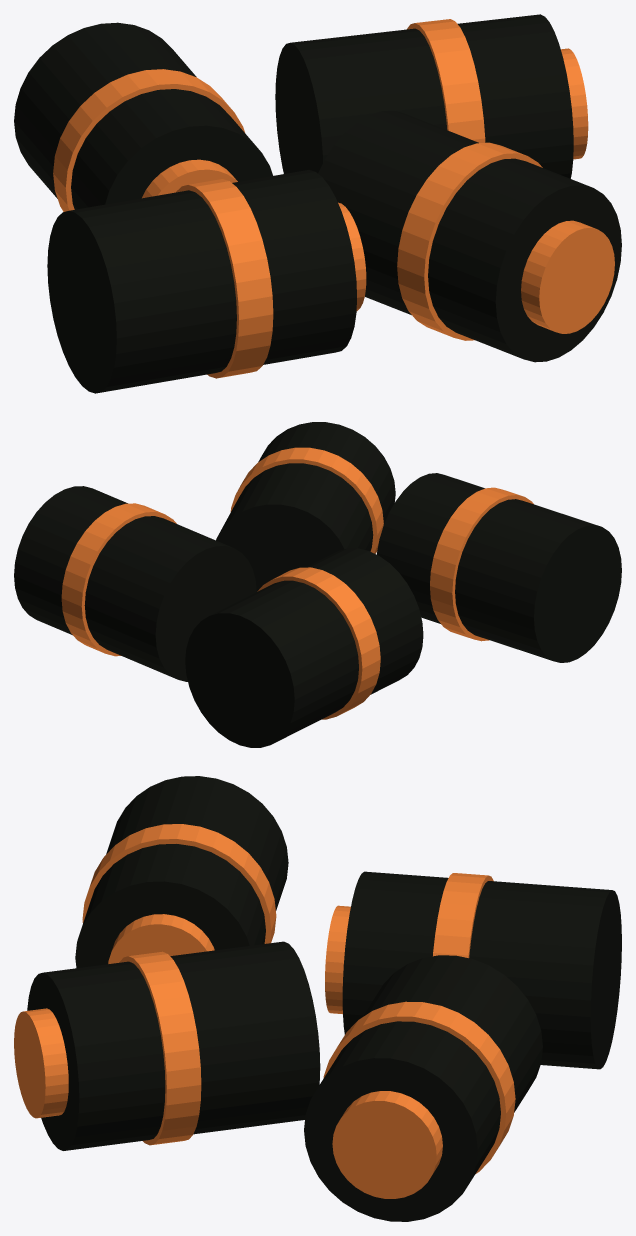
Rendered from Battery (1).fbx.
The picture shows the model from 3 angles, top to bottom: view 1: azimuth 30°, elevation 25°; view 2: azimuth 150°, elevation 25°; view 3: azimuth 270°, elevation 25°; orthographic projection. The views are drawn at different scales.
Parts seen in each view (by area): view 1: Cylinder.002, Cylinder.004, Cylinder.003, Cylinder.001; view 2: Cylinder.001, Cylinder.002, Cylinder.003, Cylinder.004; view 3: Cylinder.004, Cylinder.003, Cylinder.001, Cylinder.002.
Boxes of the visible parts, x1,y1,x2,y2 form: Cylinder.002: (47,170,366,393); Cylinder.004: (318,110,621,362); Cylinder.003: (275,14,588,178); Cylinder.001: (14,22,272,211); Cylinder.001: (185,548,423,747); Cylinder.002: (377,473,621,662); Cylinder.003: (14,486,256,681); Cylinder.004: (216,422,395,591); Cylinder.004: (14,941,320,1150); Cylinder.003: (304,955,542,1221); Cylinder.001: (325,871,621,1069); Cylinder.002: (75,776,288,968).
Bounding box in the file's own units: 381 × 115 × 338.
